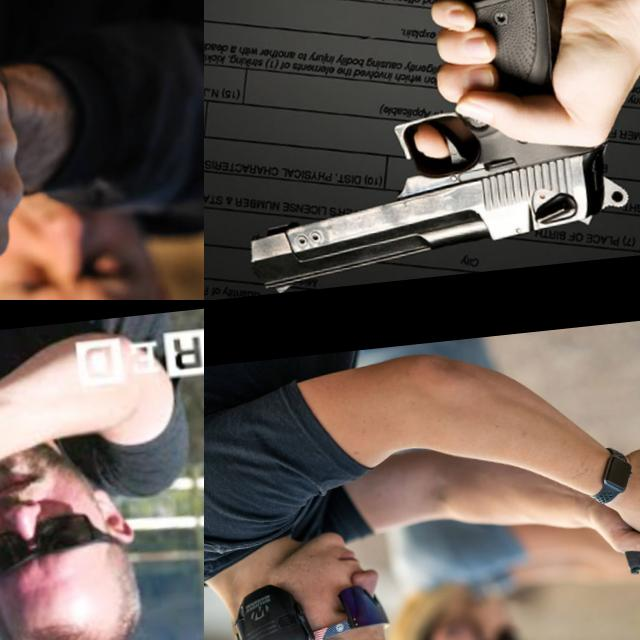handgun: (216, 0, 635, 295), (0, 158, 109, 300), (0, 457, 51, 553)
